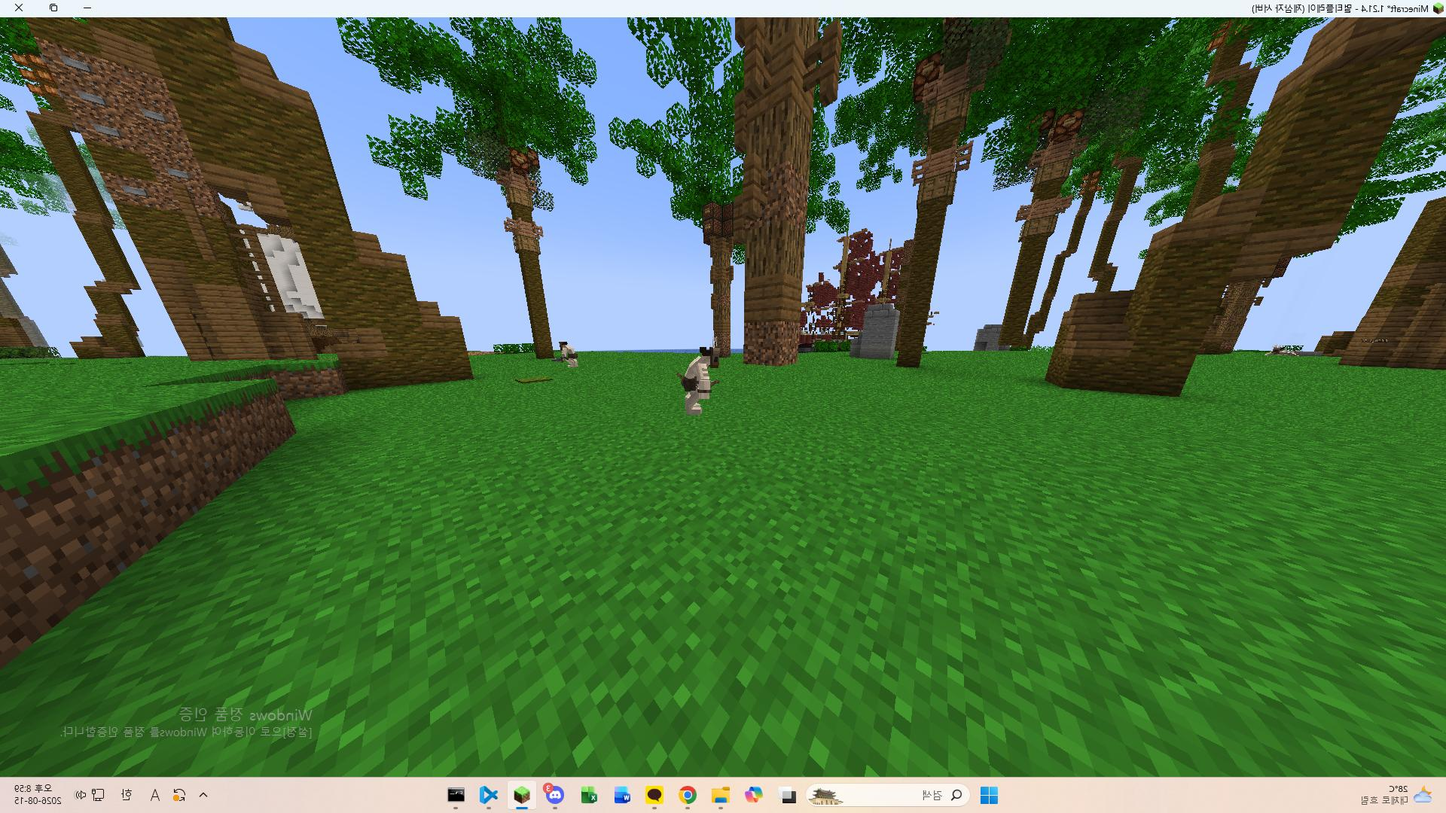bow_indian: (665, 331, 733, 423)
